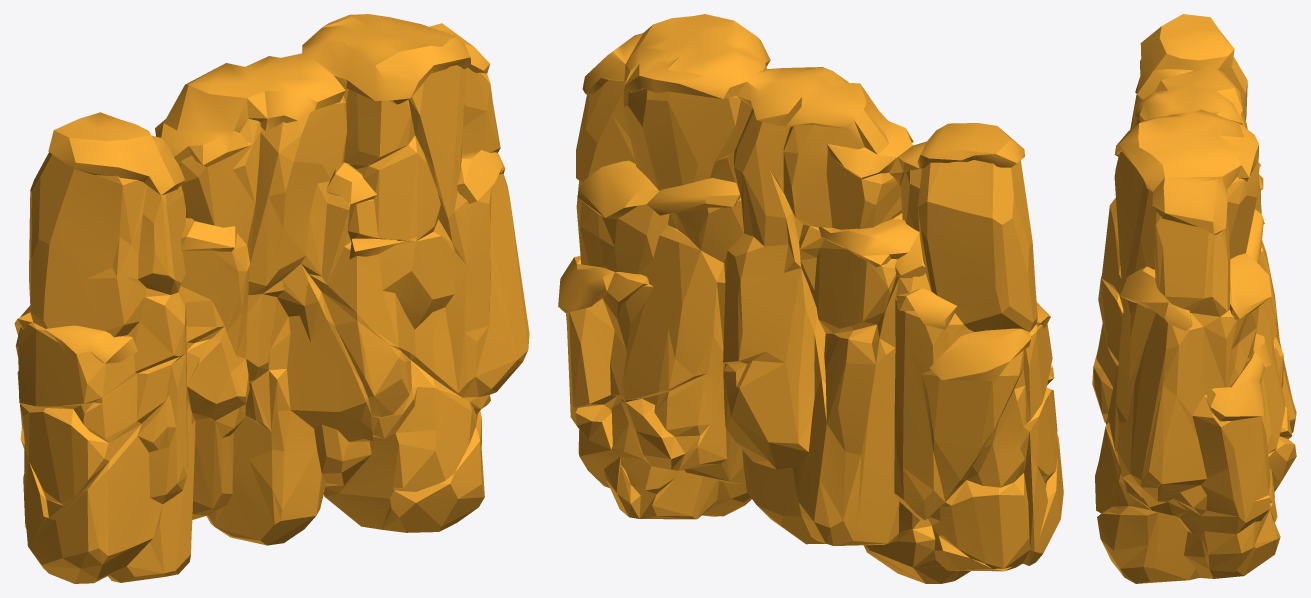
File: SM_Rock_A_Snow.fbx
The picture shows the model from 3 angles, left to right: view 1: azimuth 30°, elevation 25°; view 2: azimuth 150°, elevation 25°; view 3: azimuth 270°, elevation 25°; orthographic projection. The views are drawn at different scales.
Parts seen in each view (by area): view 1: rock-a-snow; view 2: rock-a-snow; view 3: rock-a-snow.
Part boxes in pixels (box(x1,y1,x2,y2)): rock-a-snow: box(14, 14, 529, 583); rock-a-snow: box(558, 14, 1063, 583); rock-a-snow: box(1092, 14, 1296, 583).
Bounding box in the file's own units: 10.91 × 10.66 × 4.46.
